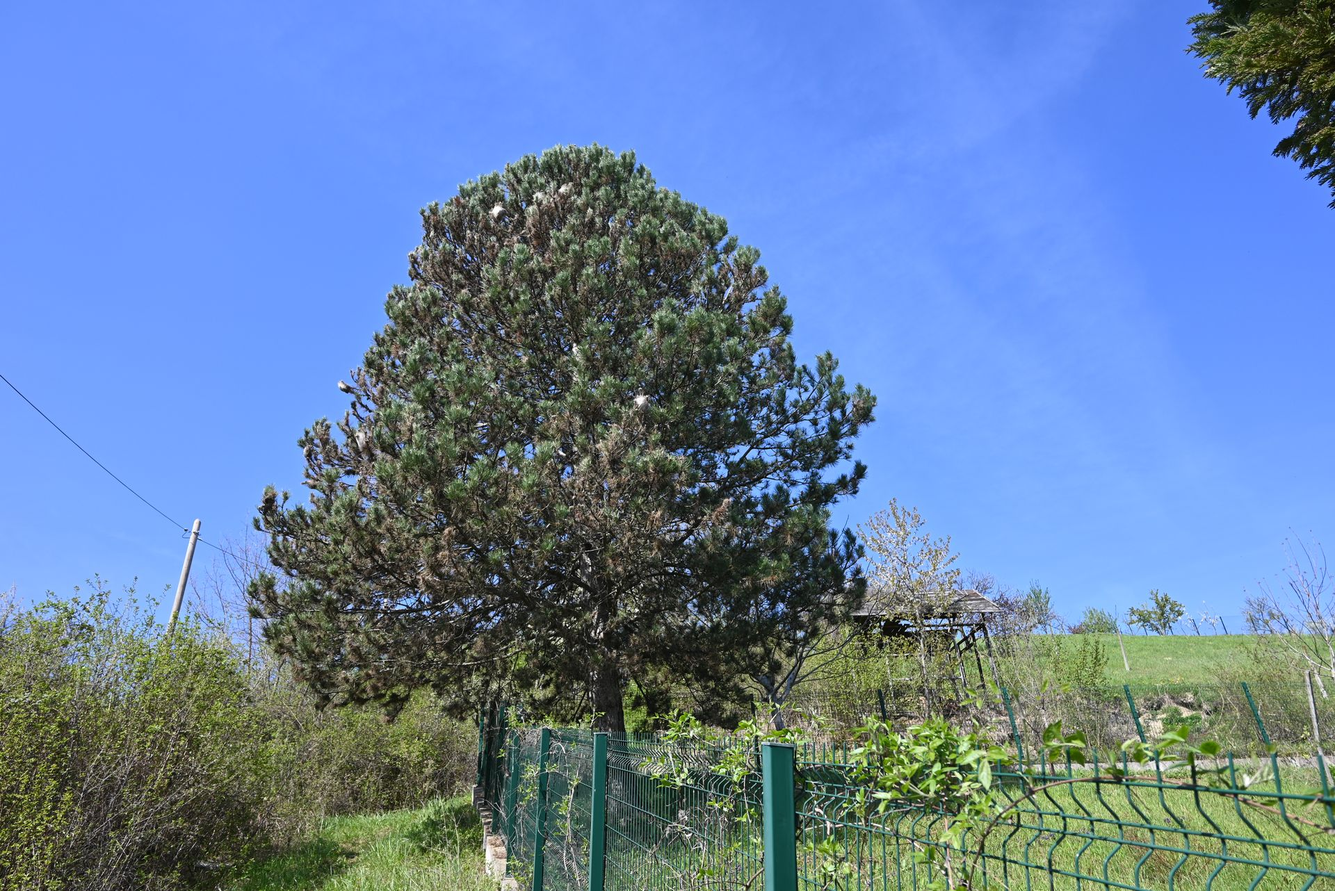thaumatopoea pityocampa jajno gnijezdo: (349, 430, 373, 454), (555, 181, 580, 203), (529, 191, 548, 218), (632, 393, 653, 412), (490, 200, 508, 222), (335, 380, 358, 397)
